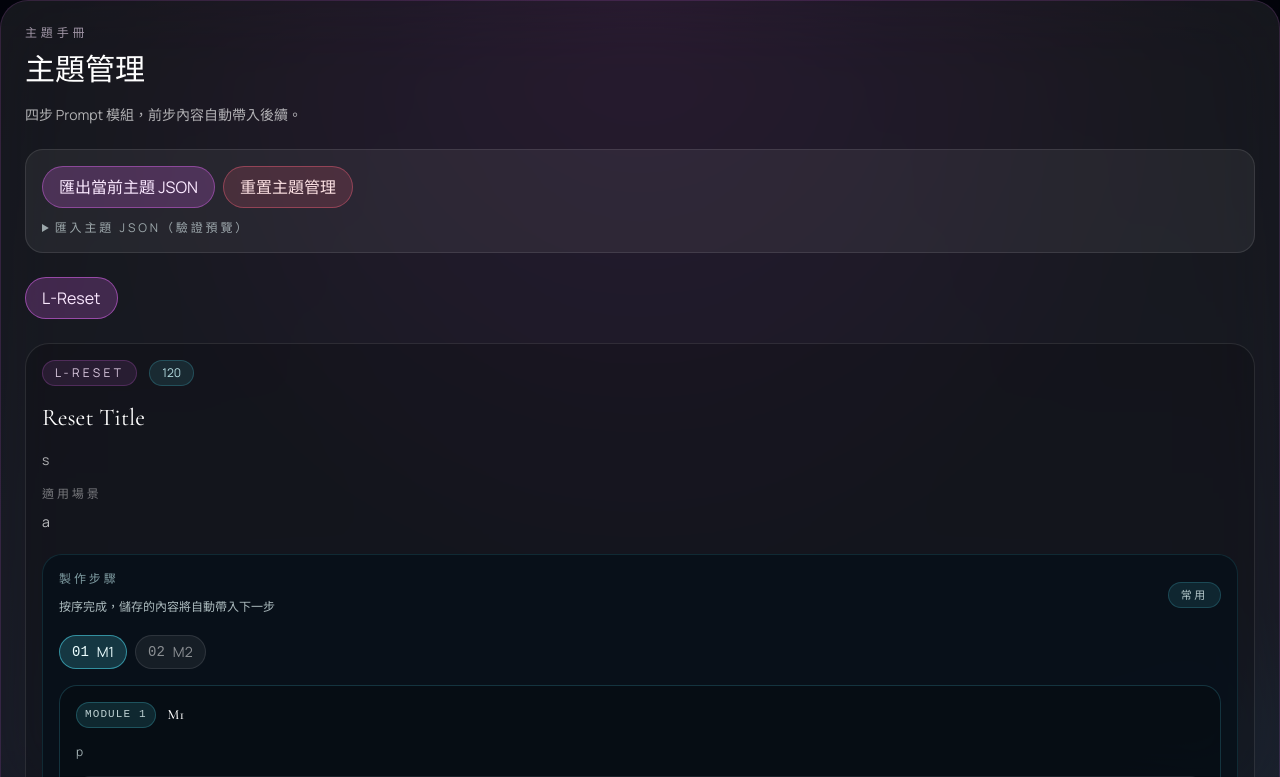
Test case: ThemeProgramPanel — 重置按鈕流程 › 點擊「重置主題管理」→ 開啟確認 modal
Click the button with test id "tpp-reset" at (288, 187), box [223,166,353,208]
(page scrolled)
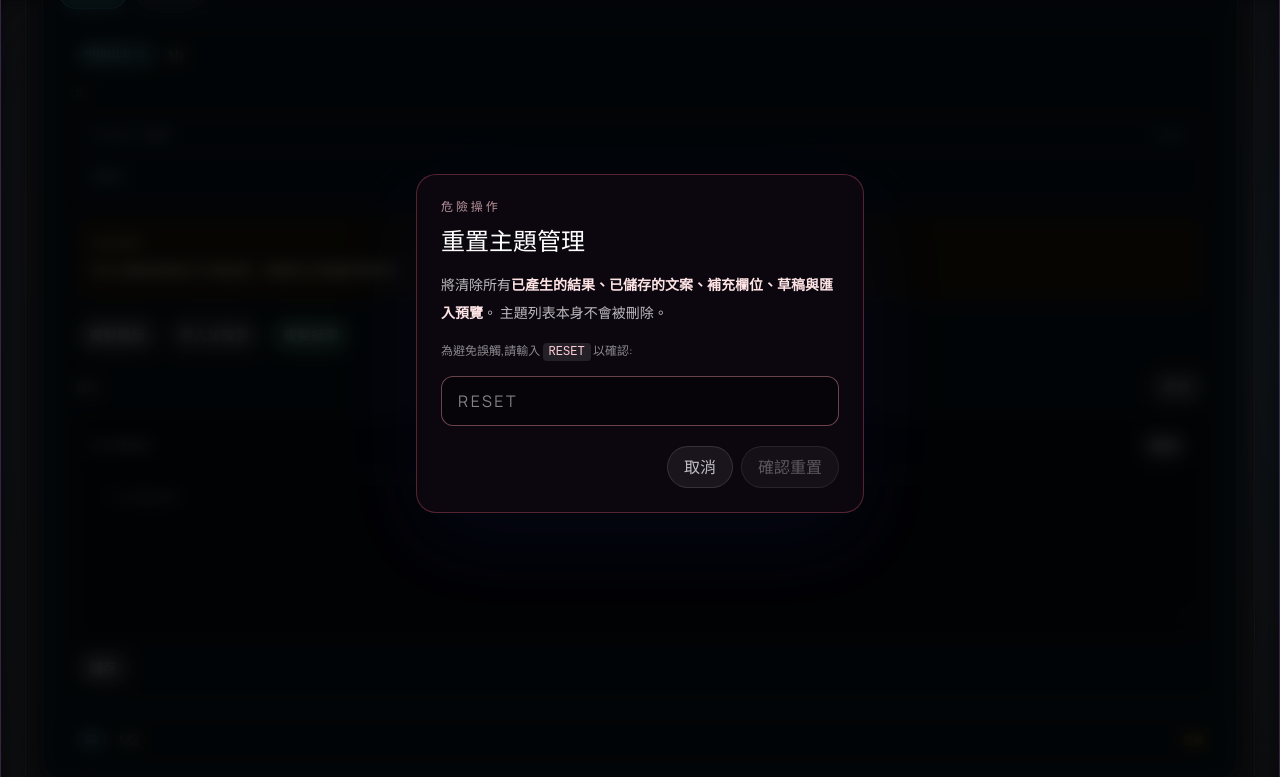
Now the field with test id "tpp-reset-confirm-input" is shown, box [441,376,839,426]
